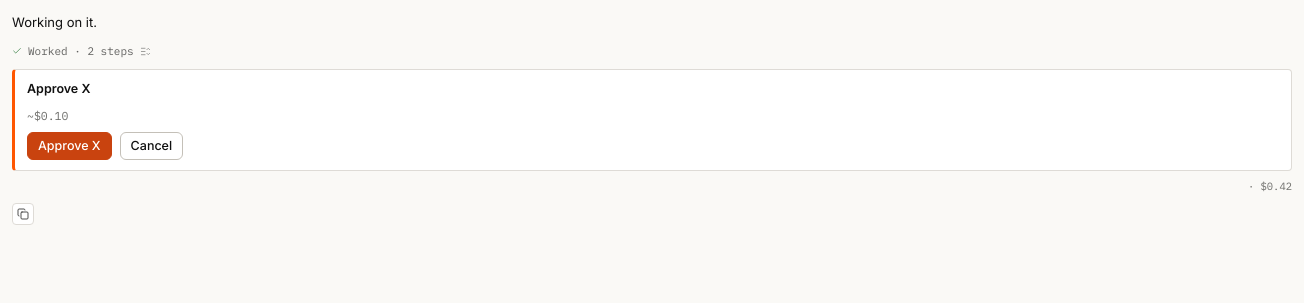
it: MessageView › renders an assistant message with events through the folded card set
Expected: the element with class "chat-md" reads "Working on it.", [12,14,97,30]
Click the button "Worked · 2 steps" at {"x": 81, "y": 51}, box [12,41,151,61]
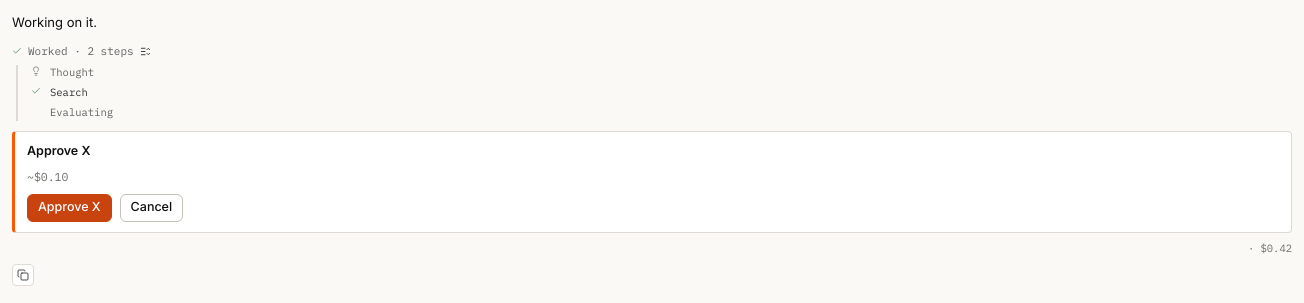
Now the text "Search" is shown, box [50,85,88,101]
Now the text "Evaluating" is shown, box [50,105,113,121]
Now the button "Thought" is shown, box [50,65,113,81]
